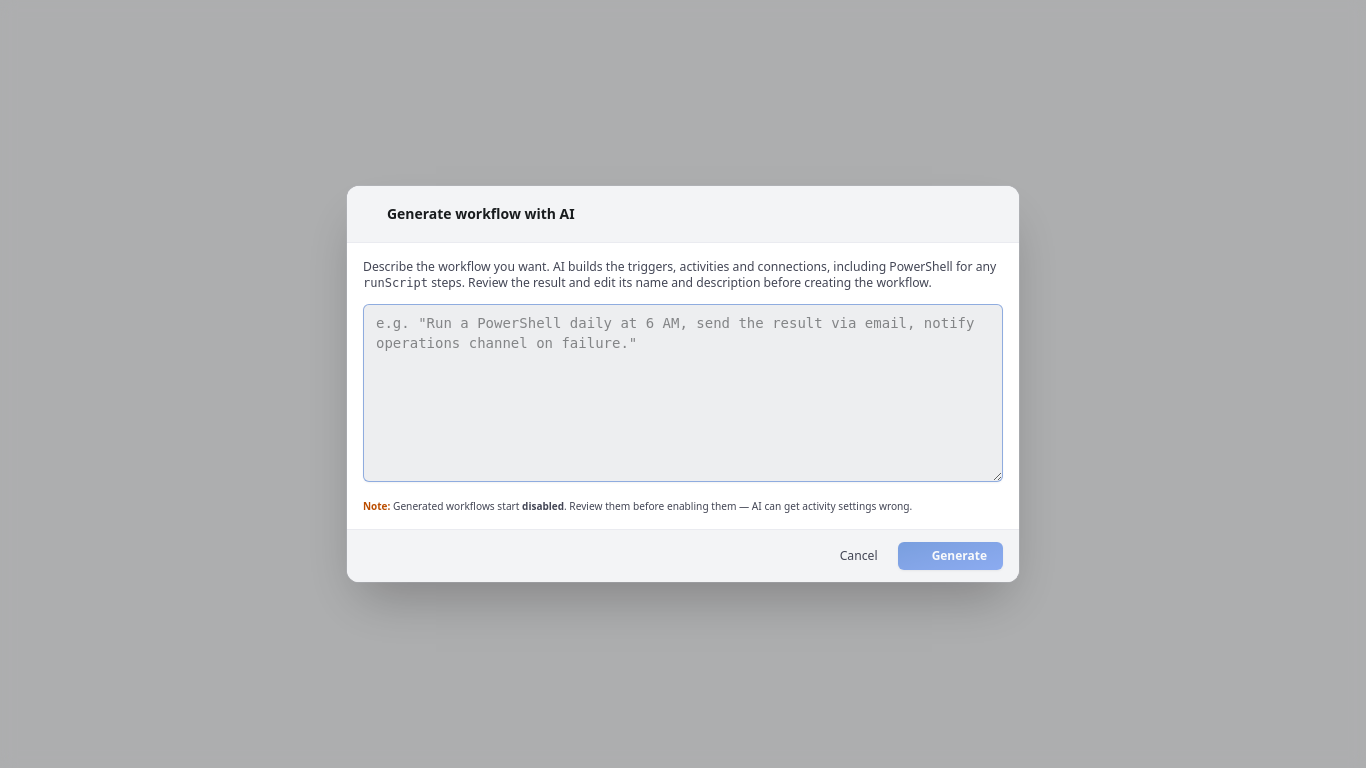
WorkflowGenerationDialog › generate failure stays on prompt stage with error message
Replace the text in the text box named "Workflow prompt" with "cleanup": (683, 393) x1=363 y1=304 x2=1003 y2=482
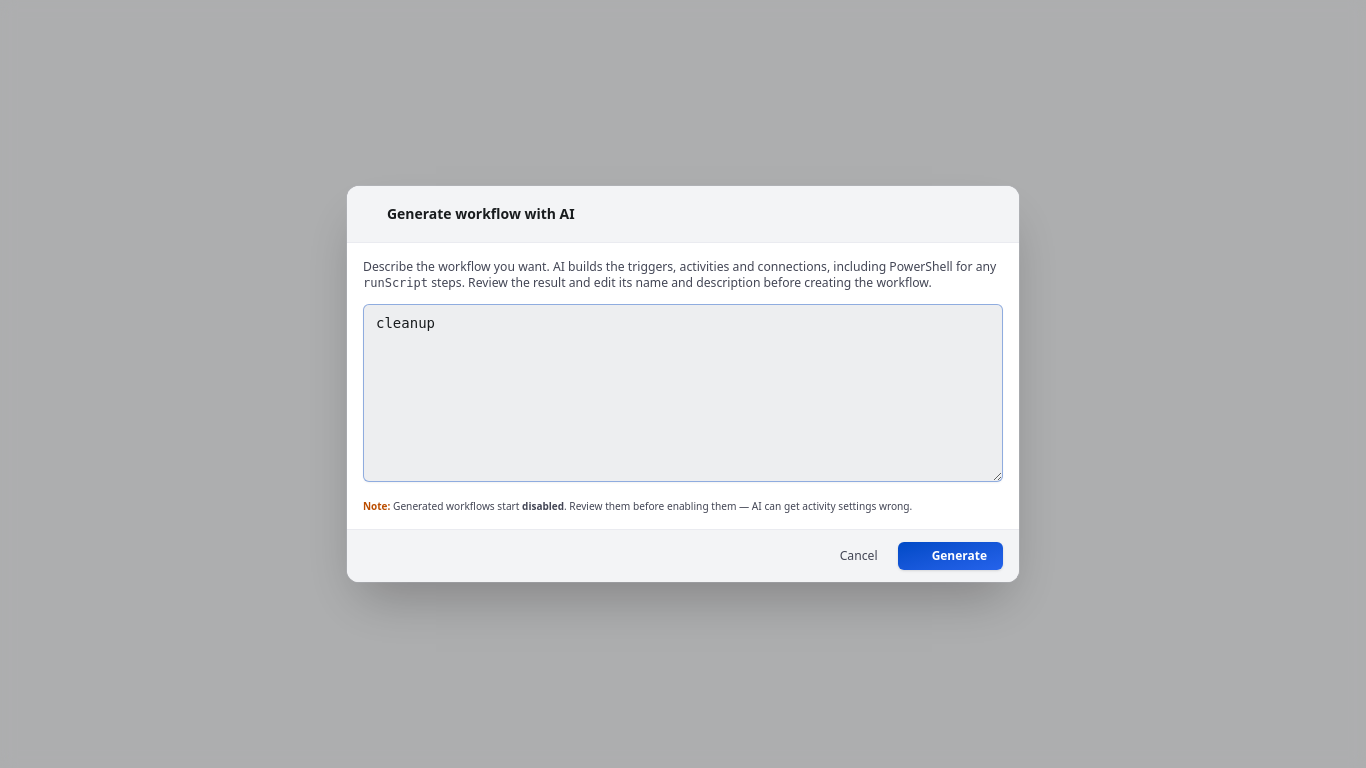
Click the button "Generate": (950, 556) x1=898 y1=542 x2=1003 y2=570
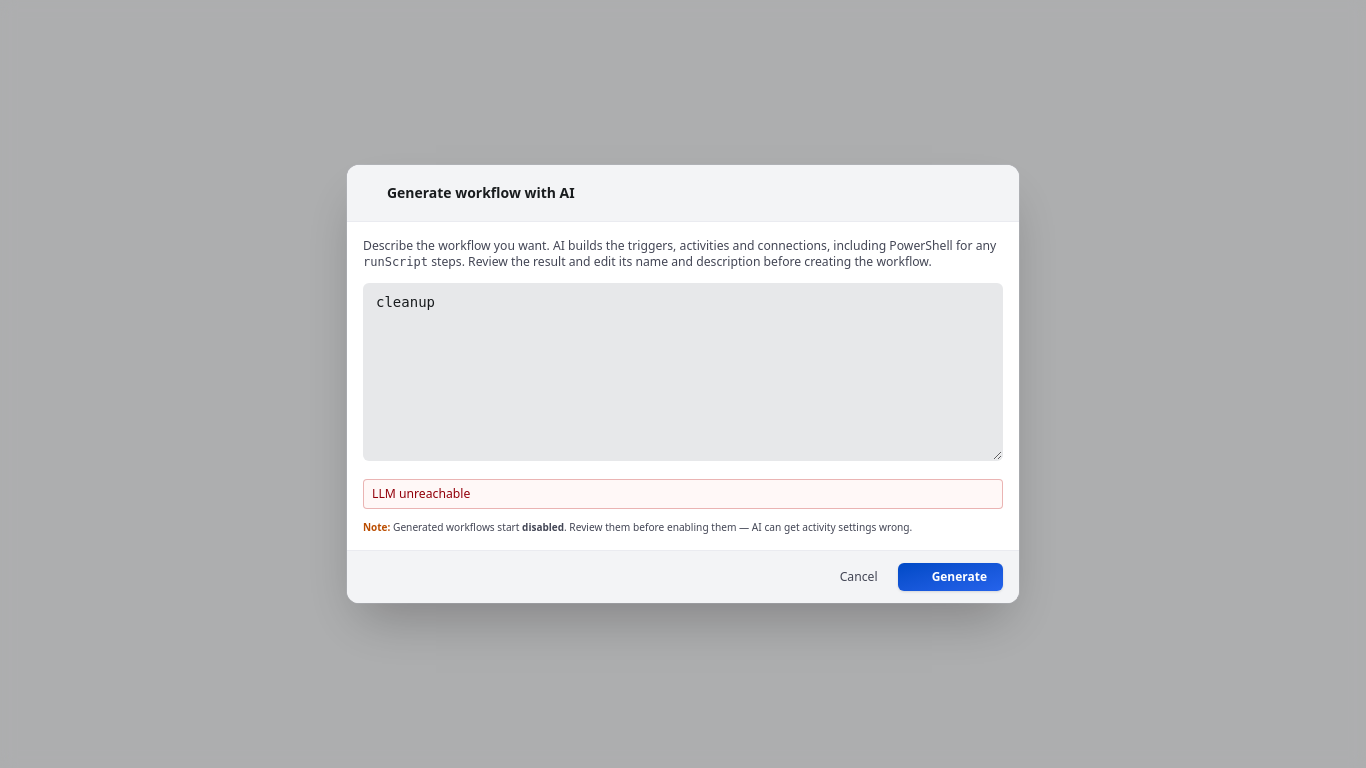
Now the message reads "LLM unreachable", box x1=372 y1=485 x2=470 y2=502
